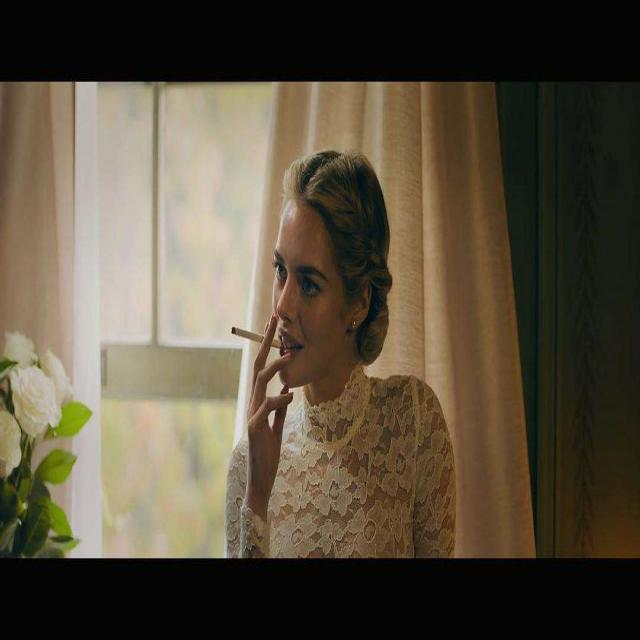smoke: (229, 320, 265, 345)
